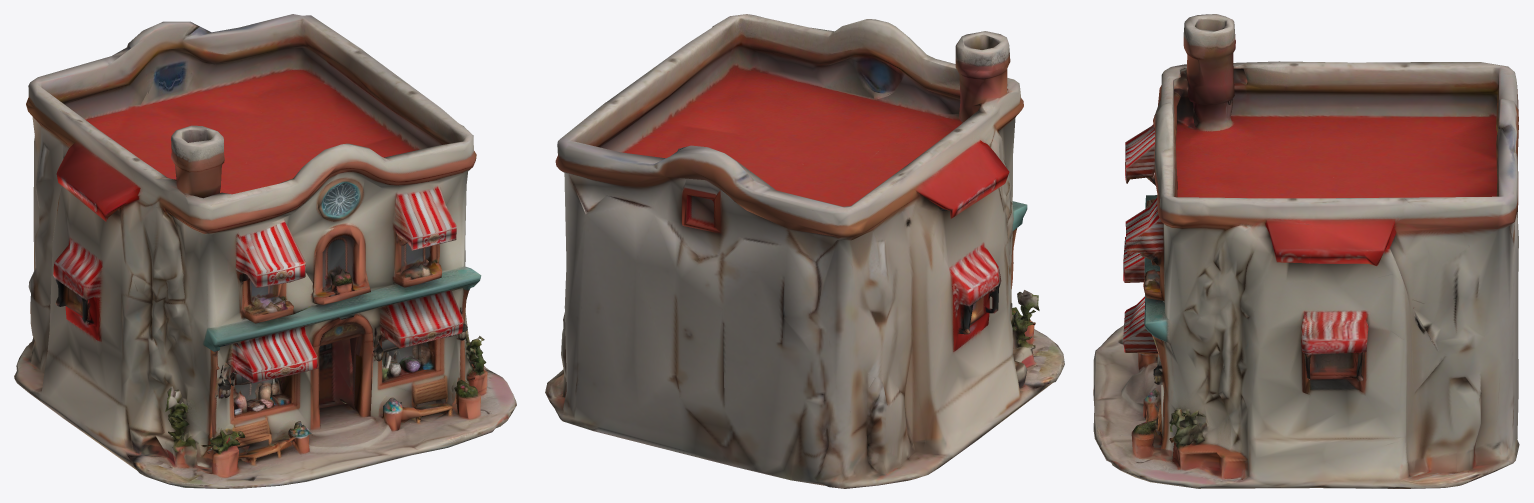
Rendered from market.glb.
3 views of the same model, side by side, from view 1: azimuth 30°, elevation 25°; view 2: azimuth 150°, elevation 25°; view 3: azimuth 270°, elevation 25° (orthographic). The views are drawn at different scales.
Bounding box in the file's own units: 2 × 1.65 × 2.
Materials: 1 (1 with a texture image).
